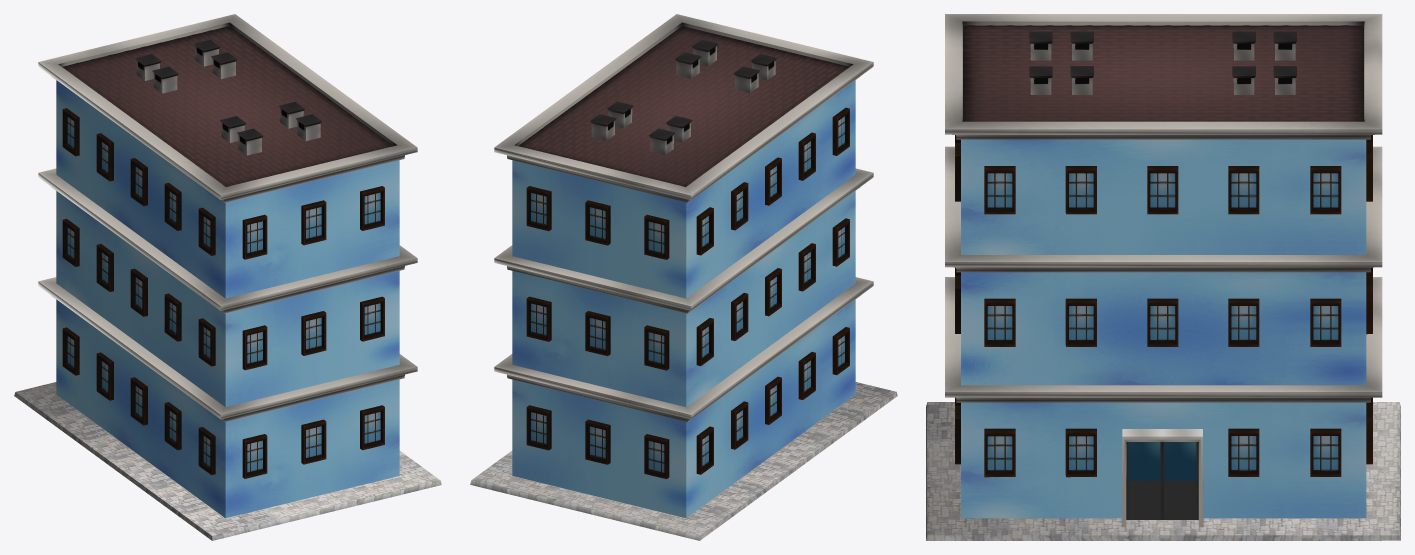
Rendered from classic-building3.fbx.
3 views of the same model, side by side, from view 1: azimuth 30°, elevation 25°; view 2: azimuth 150°, elevation 25°; view 3: azimuth 270°, elevation 25° (orthographic). The views are drawn at different scales.
Visible parts, largest first — view 1: flat_roof2, wallls_cb, wallls_cb_1, wallls_cb_2, Group1, flat_roof2_1, flat_roof, WINDOW_21, WINDOW_11, WINDOW_9, WINDOW_35, WINDOW_33 (+23 smaller); view 2: flat_roof2, wallls_cb, wallls_cb_1, wallls_cb_2, Group1, flat_roof2_1, flat_roof, WINDOW_29, WINDOW_17, WINDOW_2, WINDOW_27, WINDOW_16 (+23 smaller); view 3: flat_roof2, wallls_cb_1, wallls_cb_2, wallls_cb, Group1, flat_roof2_1, flat_roof, door_cb_1, door_cb, WINDOW_26, WINDOW_24, WINDOW_14 (+19 smaller).
Boxes of the visible parts, x1,y1,x2,y2 form: flat_roof2: (38,14,417,202); wallls_cb: (56,299,399,518); wallls_cb_1: (56,80,399,298); wallls_cb_2: (56,191,399,407); Group1: (14,382,441,540); flat_roof2_1: (38,168,417,313); flat_roof: (38,277,417,422); WINDOW_21: (301,311,326,355); WINDOW_11: (242,214,267,259); WINDOW_9: (301,200,326,245); WINDOW_35: (242,434,267,478); WINDOW_33: (301,419,326,464); flat_roof2: (494,14,873,202); wallls_cb: (512,299,855,518); wallls_cb_1: (512,80,855,298); wallls_cb_2: (512,191,855,407); Group1: (470,382,897,540); flat_roof2_1: (494,168,873,313); flat_roof: (494,277,873,422); WINDOW_29: (526,405,551,450); WINDOW_17: (526,296,551,341); WINDOW_2: (585,200,610,245); WINDOW_27: (585,419,610,464); WINDOW_16: (644,325,669,370); flat_roof2: (945,14,1382,139); wallls_cb_1: (961,139,1366,254); wallls_cb_2: (961,272,1366,385); wallls_cb: (961,402,1366,518); Group1: (926,402,1400,540); flat_roof2_1: (945,146,1382,272); flat_roof: (945,277,1382,402); door_cb_1: (1162,429,1203,527); door_cb: (1122,429,1162,527); WINDOW_26: (984,428,1015,477); WINDOW_24: (1065,428,1096,477); WINDOW_14: (984,298,1015,346).
Bounding box in the file's own units: 781 × 1140 × 1167.
Materials: 6 (6 with a texture image).
